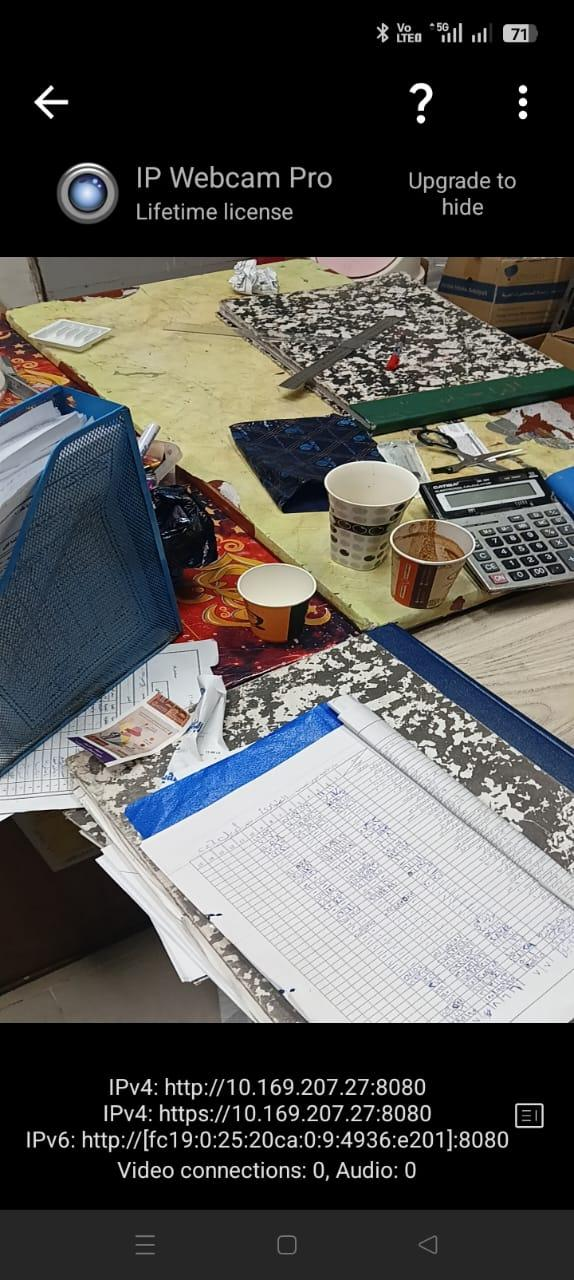cup: (324, 460, 418, 570), (391, 519, 474, 608), (237, 563, 315, 642)
